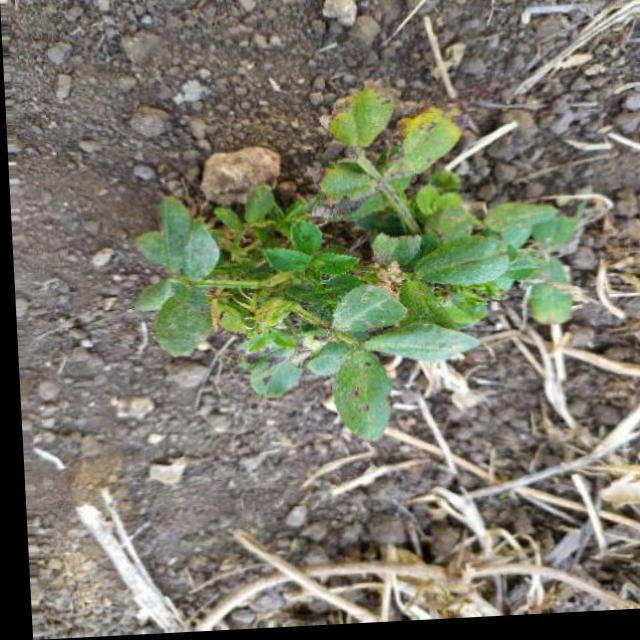weed: (78, 77, 586, 417)
